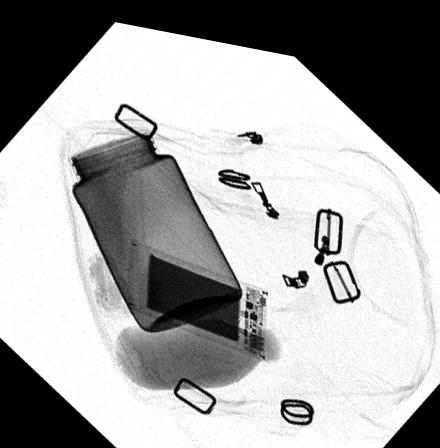Powerbank: (126, 230, 268, 350)
